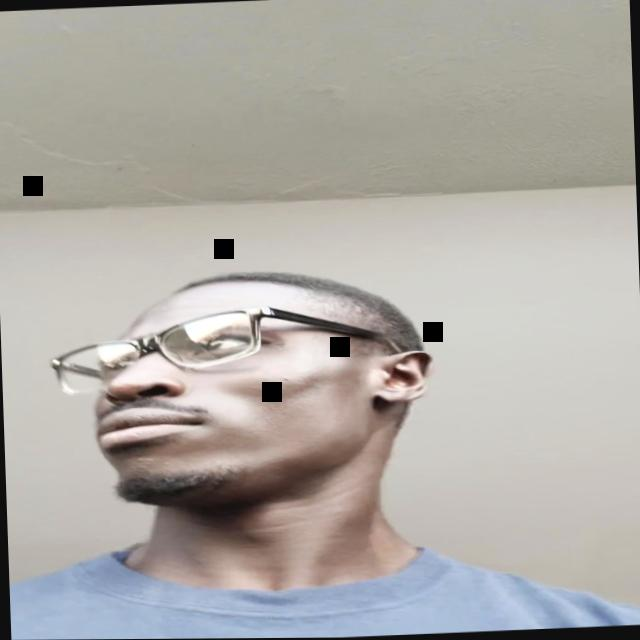NO-Mask: (57, 269, 416, 524)
